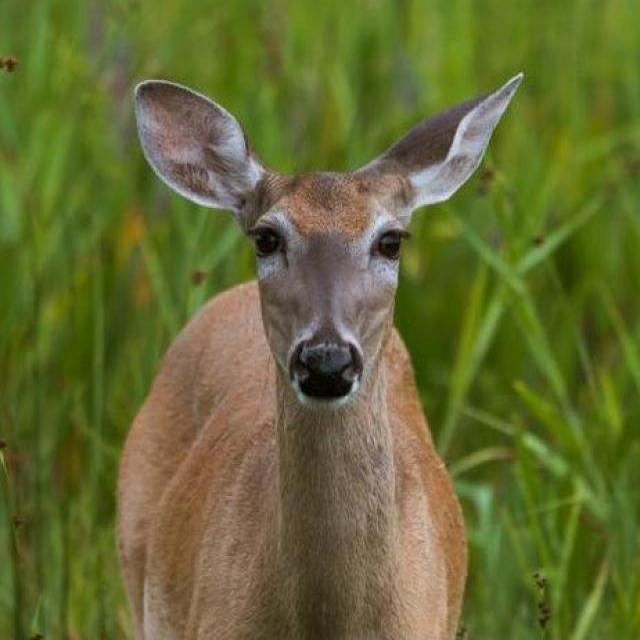deer: (122, 72, 522, 640)
